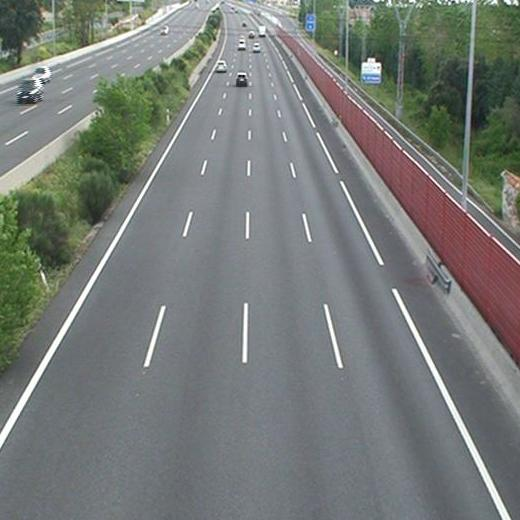car: (236, 74, 247, 85), (216, 61, 227, 71), (253, 42, 262, 52), (237, 39, 245, 49)
